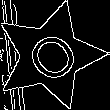O_SE: (16, 22, 84, 89)
